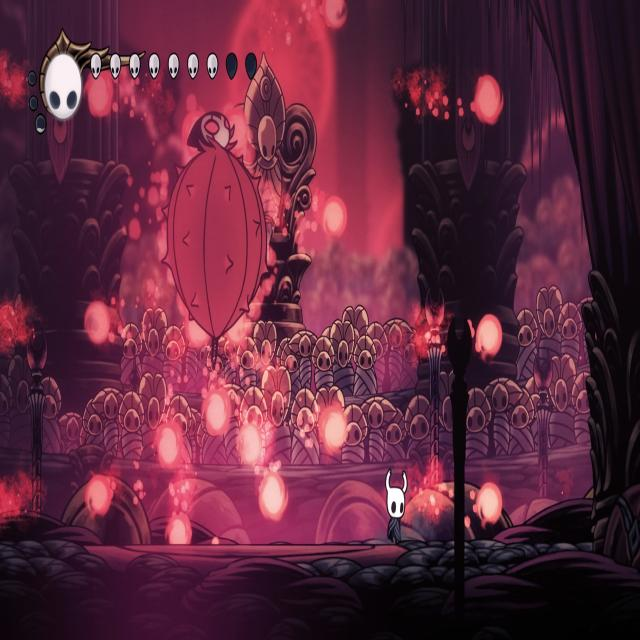Player: (381, 461, 410, 545)
Pufferfish: (159, 108, 275, 368)
Tiny Fireballs: (474, 75, 502, 126), (319, 404, 347, 452), (260, 472, 288, 520), (86, 70, 114, 118), (157, 422, 183, 470), (85, 474, 114, 517), (204, 391, 230, 436), (85, 301, 111, 345), (476, 316, 502, 359), (239, 424, 264, 468), (478, 483, 502, 528), (322, 196, 346, 236), (168, 513, 190, 546), (324, 0, 348, 29)
